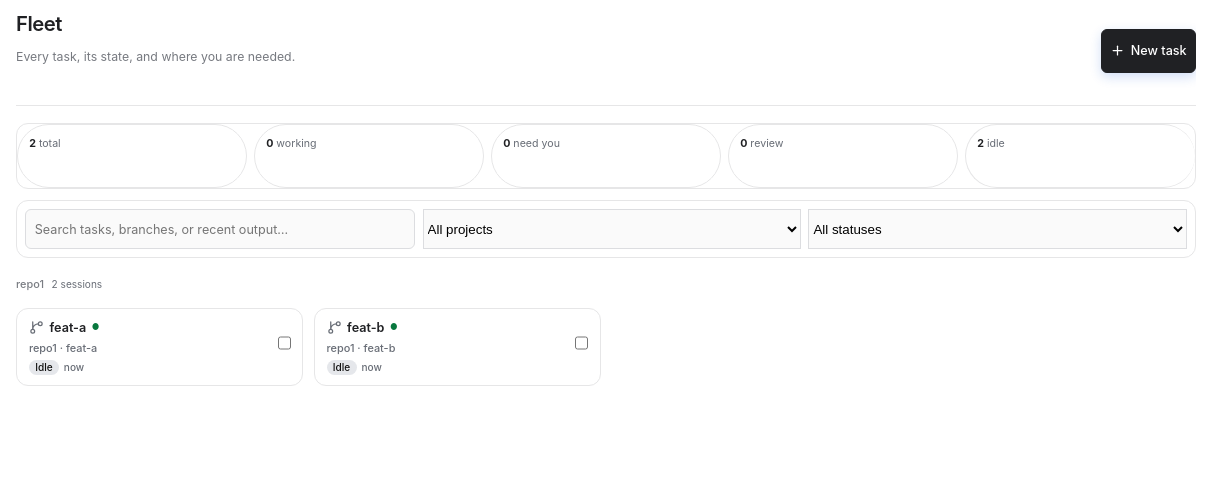
Test: FleetGrid › bulk-archives selected workspaces after a single confirm
Click the checkbox named "select feat-a". click: (284, 343)
box: [278, 321, 291, 365]
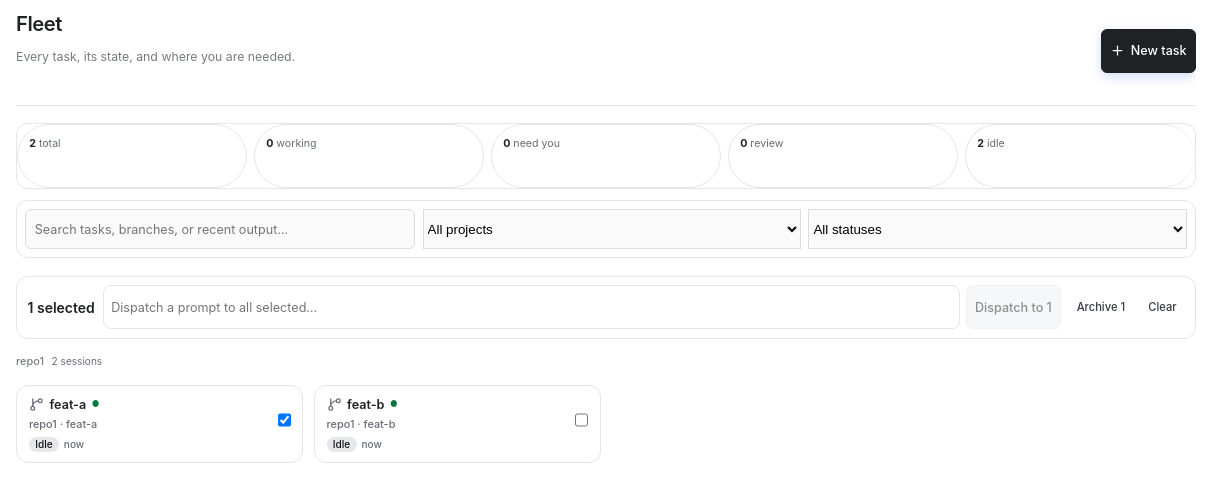
Click the checkbox named "select feat-b". click: (582, 420)
box: [575, 398, 588, 442]
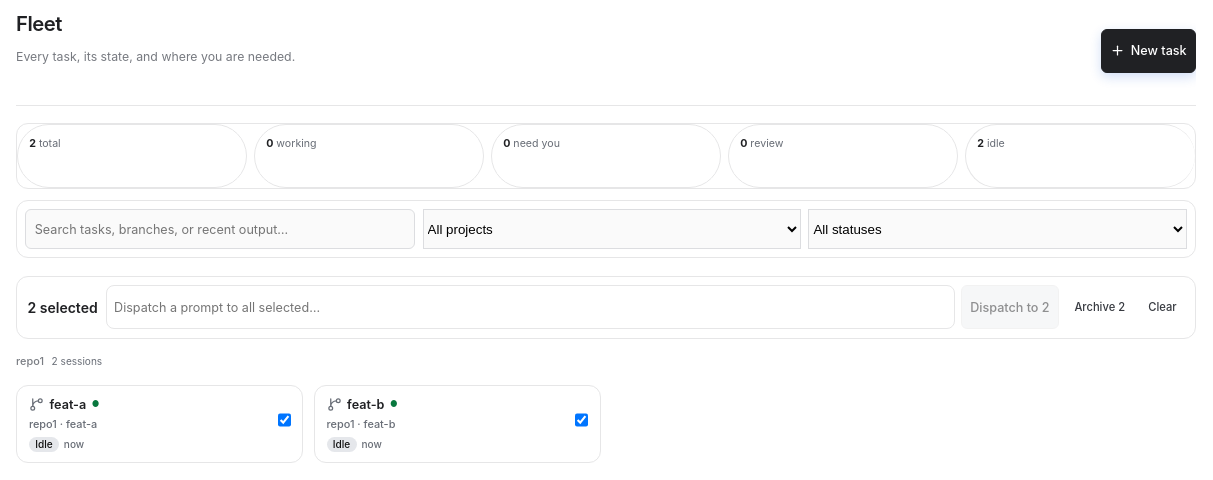
Click the button "Archive 2". click: (1100, 307)
box: [1067, 289, 1132, 325]
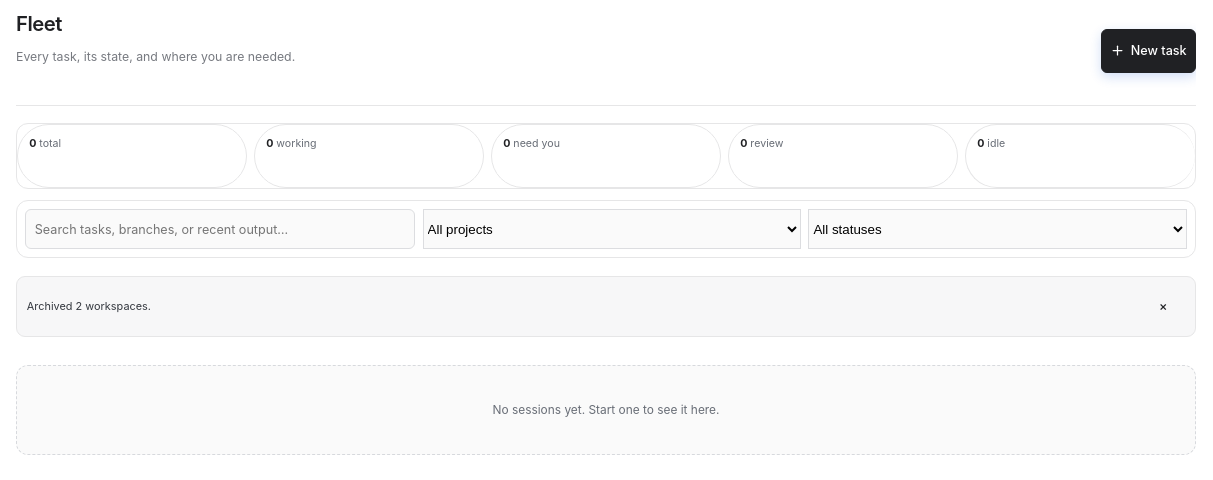
Now the message shows "Archived 2 workspaces", box [27, 300, 151, 314]
